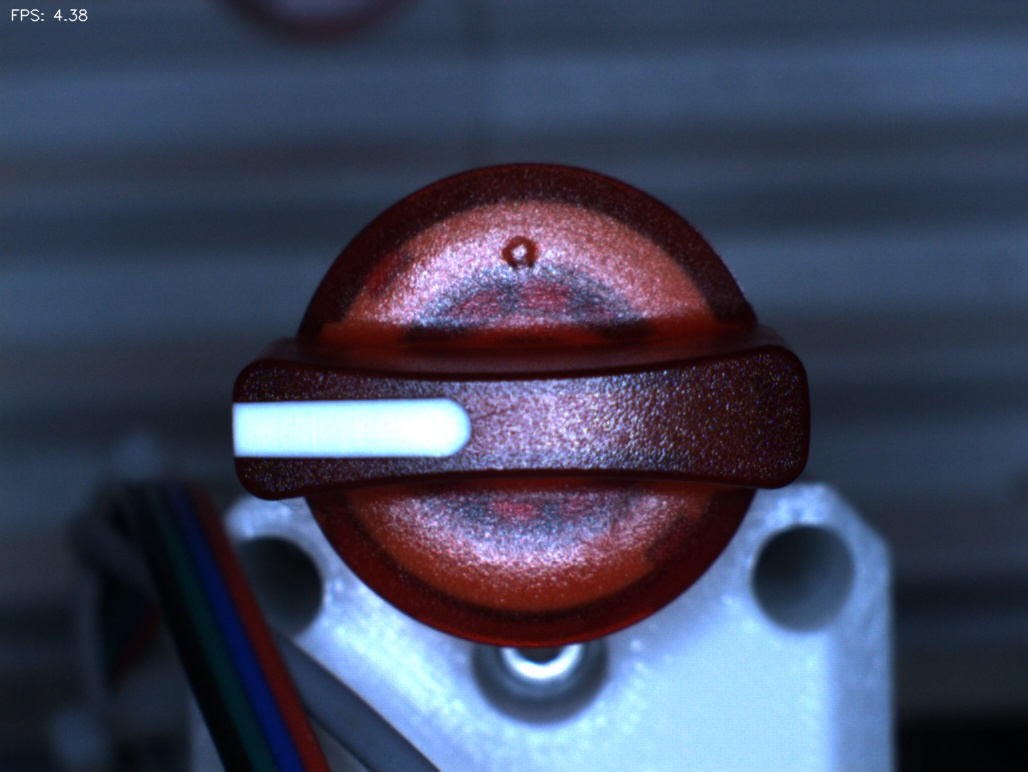Choc: (474, 201, 556, 283)
